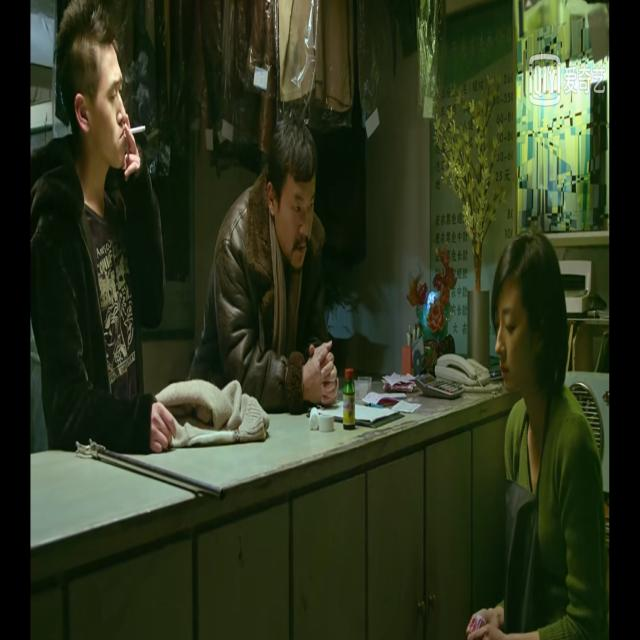smoke: (126, 123, 147, 138)
